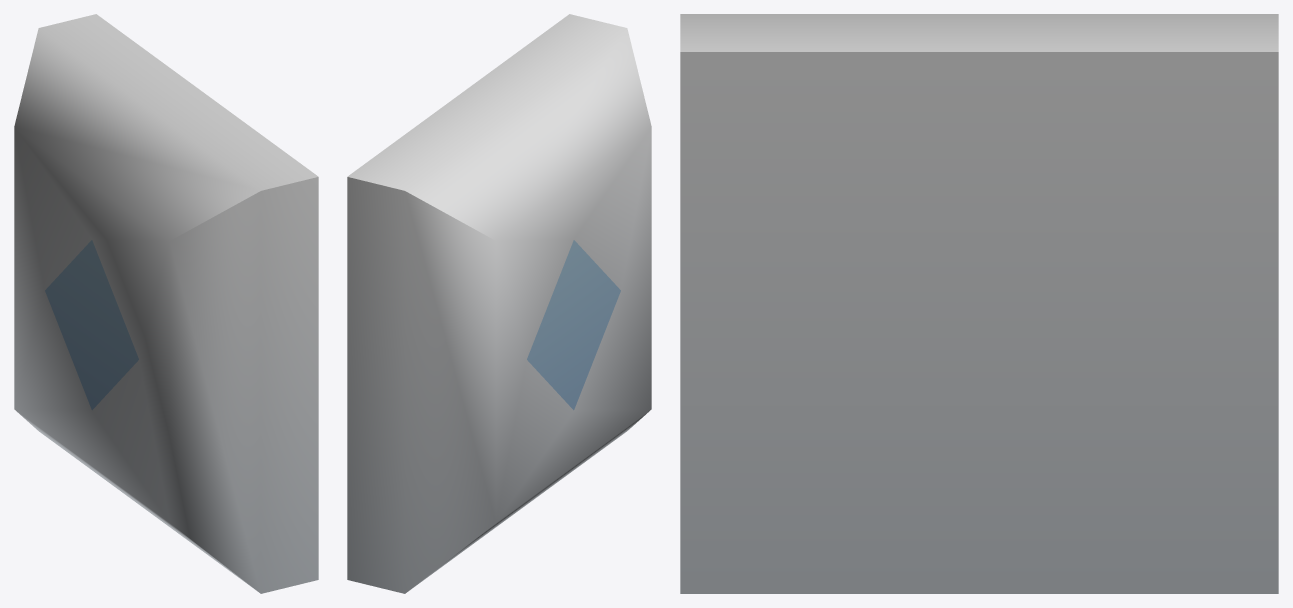
Rendered from wall-small-tile-diamond (%wall).glb.
3 renders of one model, left to right at view 1: azimuth 30°, elevation 25°; view 2: azimuth 150°, elevation 25°; view 3: azimuth 270°, elevation 25°, orthographic. The views are drawn at different scales.
Parts seen in each view (by area): view 1: wall-small-tile-diamond (%wall); view 2: wall-small-tile-diamond (%wall); view 3: wall-small-tile-diamond (%wall).
Boxes of the visible parts, x1,y1,x2,y2 form: wall-small-tile-diamond (%wall): (14,14,318,593); wall-small-tile-diamond (%wall): (347,14,651,593); wall-small-tile-diamond (%wall): (680,14,1278,593).
Bounding box in the file's own units: 0.05 × 0.1667 × 0.1667.
